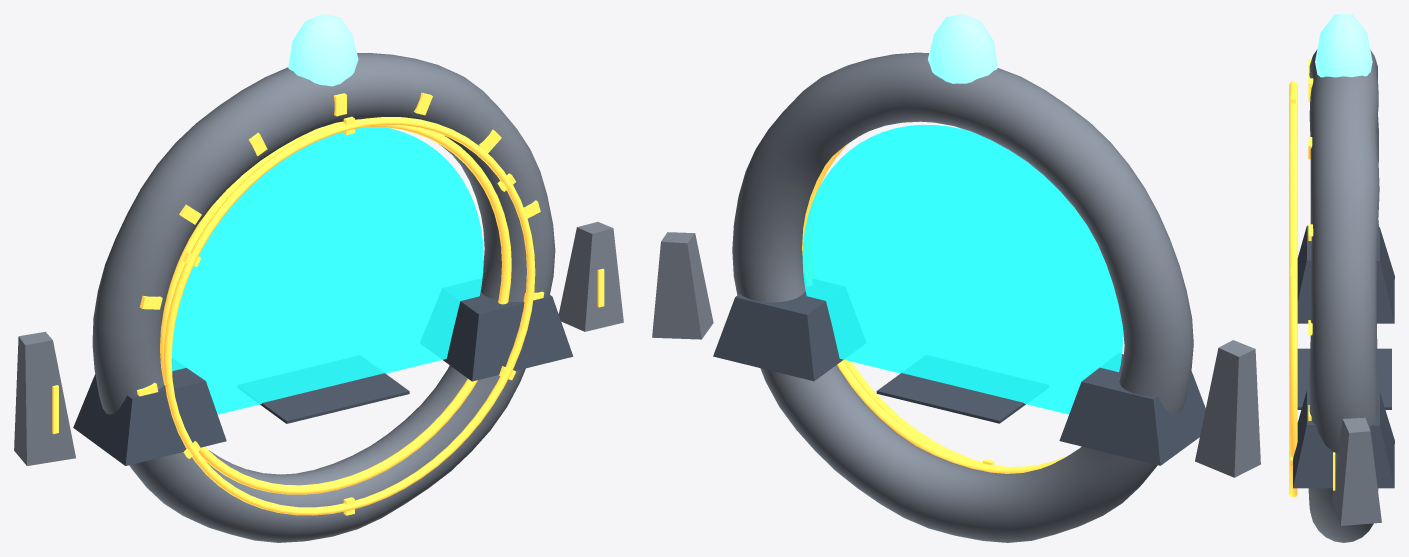
The model's file is Portal.glb.
3 views of the same model, side by side, from view 1: azimuth 30°, elevation 25°; view 2: azimuth 150°, elevation 25°; view 3: azimuth 270°, elevation 25° (orthographic). The views are drawn at different scales.
Parts seen in each view (by area): view 1: Portal_Ring, PortalMembrane, Portal_RuneRing, Portal_RingRunes, Portal_FootingL, Portal_FootingR, Portal_FlankL, Portal_FlankR, Portal_Keystone, Portal_Threshold; view 2: Portal_Ring, PortalMembrane, Portal_FootingL, Portal_FootingR, Portal_FlankL, Portal_FlankR, Portal_Keystone, Portal_Threshold, Portal_RingRunes, Portal_RuneRing; view 3: Portal_Ring, Portal_FlankR, Portal_FootingR, Portal_RuneRing, Portal_Keystone, Portal_FootingL, Portal_Threshold, Portal_RingRunes.
Boxes of the visible parts, x1=… form: Portal_Ring: x1=92, y1=53, x2=555, y2=542; PortalMembrane: x1=171, y1=127, x2=483, y2=414; Portal_RuneRing: x1=163, y1=116, x2=535, y2=515; Portal_RingRunes: x1=137, y1=92, x2=544, y2=494; Portal_FootingL: x1=73, y1=368, x2=226, y2=465; Portal_FootingR: x1=443, y1=291, x2=573, y2=381; Portal_FlankL: x1=14, y1=331, x2=75, y2=465; Portal_FlankR: x1=558, y1=222, x2=623, y2=331; Portal_Keystone: x1=288, y1=14, x2=358, y2=86; Portal_Threshold: x1=260, y1=373, x2=409, y2=423; Portal_Ring: x1=732, y1=52, x2=1193, y2=542; PortalMembrane: x1=802, y1=124, x2=1123, y2=414; Portal_FootingL: x1=1059, y1=354, x2=1205, y2=465; Portal_FootingR: x1=713, y1=291, x2=843, y2=381; Portal_FlankL: x1=1195, y1=340, x2=1260, y2=477; Portal_FlankR: x1=652, y1=232, x2=713, y2=339; Portal_Keystone: x1=928, y1=14, x2=997, y2=83; Portal_Threshold: x1=876, y1=373, x2=1025, y2=423; Portal_RingRunes: x1=802, y1=142, x2=1067, y2=473; Portal_RuneRing: x1=843, y1=359, x2=997, y2=465; Portal_Ring: x1=1308, y1=49, x2=1379, y2=542; Portal_FlankR: x1=1332, y1=417, x2=1381, y2=525; Portal_FootingR: x1=1293, y1=390, x2=1394, y2=488; Portal_RuneRing: x1=1289, y1=81, x2=1297, y2=497; Portal_Keystone: x1=1315, y1=14, x2=1372, y2=77; Portal_FootingL: x1=1297, y1=225, x2=1394, y2=323; Portal_Threshold: x1=1297, y1=348, x2=1391, y2=409; Portal_RingRunes: x1=1308, y1=59, x2=1313, y2=420.
Bounding box in the file's own units: 5.57 × 4.65 × 0.8795.
